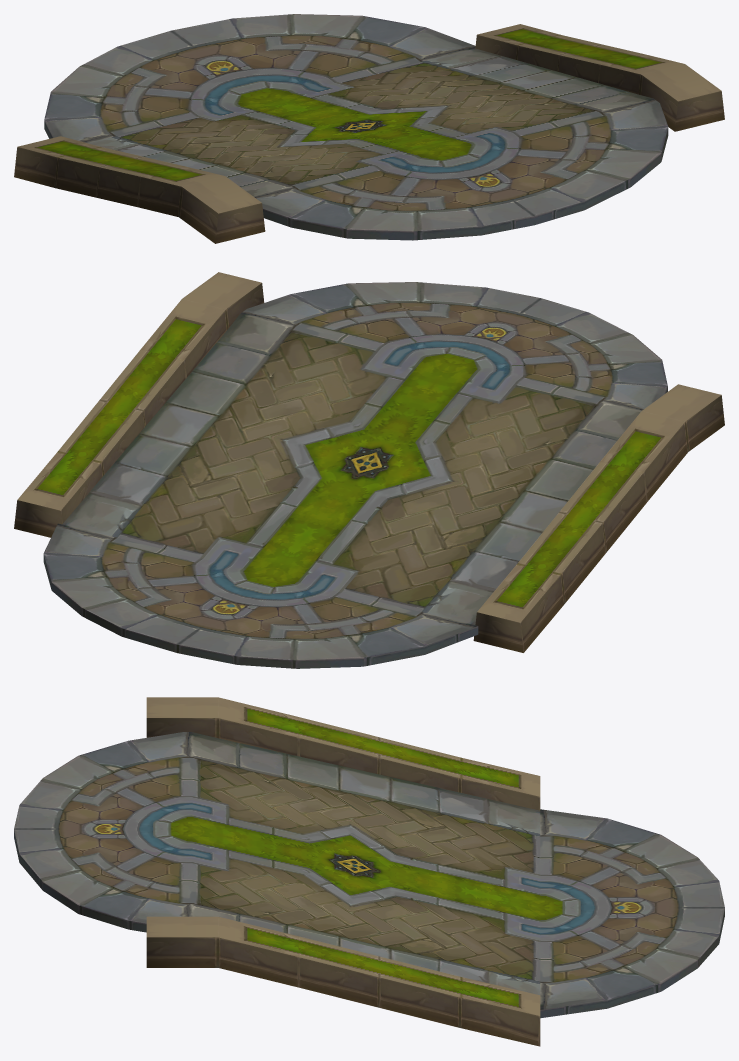
File: DN_mcgatestair01.FBX
3 views of the same model, one above another, from view 1: azimuth 30°, elevation 25°; view 2: azimuth 150°, elevation 25°; view 3: azimuth 270°, elevation 25° (orthographic). The views are drawn at different scales.
Parts seen in each view (by area): view 1: DN_mcgatestair01; view 2: DN_mcgatestair01; view 3: DN_mcgatestair01.
Part boxes in pixels (x1,y1,x2,y2): DN_mcgatestair01: (14, 14, 724, 243); DN_mcgatestair01: (14, 272, 724, 668); DN_mcgatestair01: (14, 697, 724, 1046).
Bounding box in the file's own units: 1816 × 375 × 2243.
